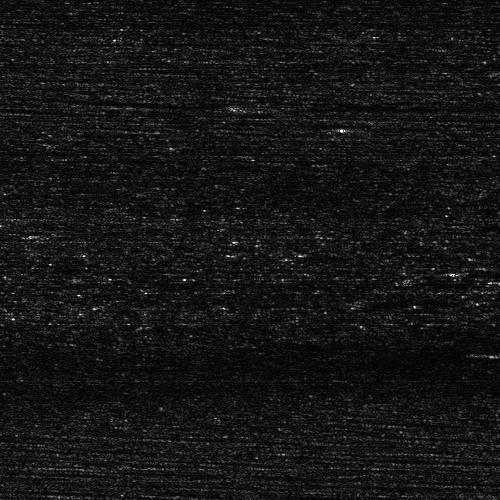object: (215, 100, 320, 109), (431, 269, 472, 274), (463, 352, 500, 357)
shadow: (268, 100, 500, 109), (451, 269, 500, 274)
